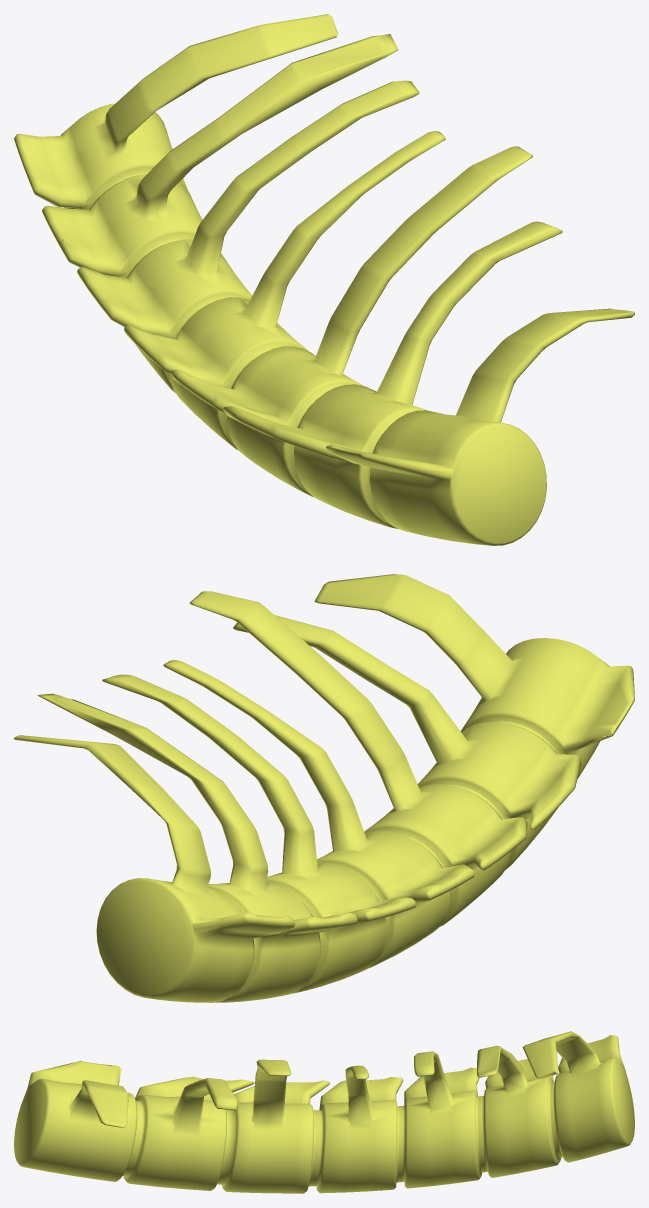
Rendered from ribs.fbx.
3 renders of one model, top to bottom at view 1: azimuth 30°, elevation 25°; view 2: azimuth 150°, elevation 25°; view 3: azimuth 270°, elevation 25°, orthographic. The views are drawn at different scales.
Parts seen in each view (by area): view 1: ribs; view 2: ribs; view 3: ribs.
Boxes of the visible parts, left/top/right/bottom form: ribs: left=14, top=14, right=634, bottom=545; ribs: left=14, top=574, right=634, bottom=1002; ribs: left=14, top=1031, right=634, bottom=1193.
Bounding box in the file's own units: 1034 × 819 × 2274.
